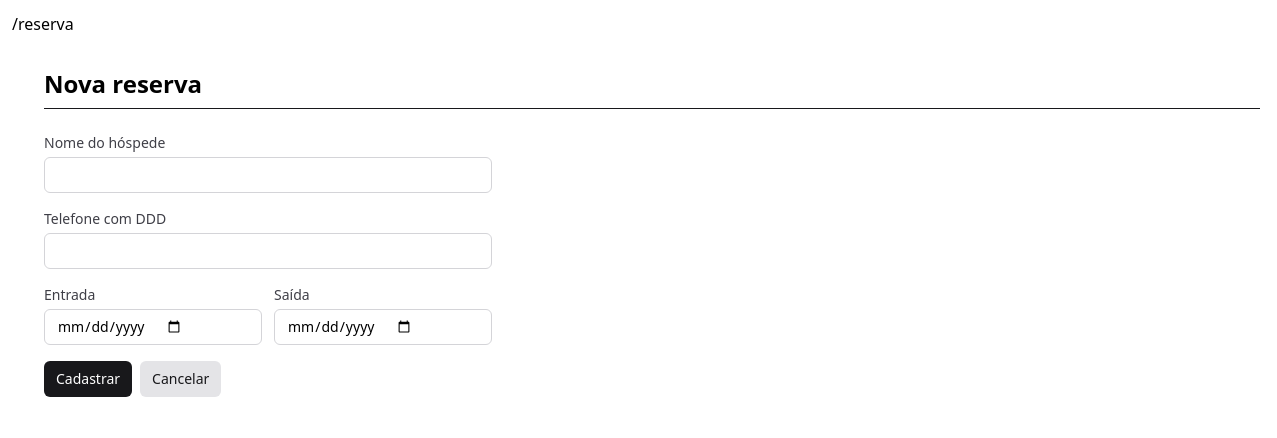
Test case: TelaNovaReserva › cadastro futuro avisa que entra no dia da entrada
The image size is (1277, 438).
Type "Marina Duarte" into the field labelled "Nome do hóspede" at (268, 175), box 44,157 -> 492,193
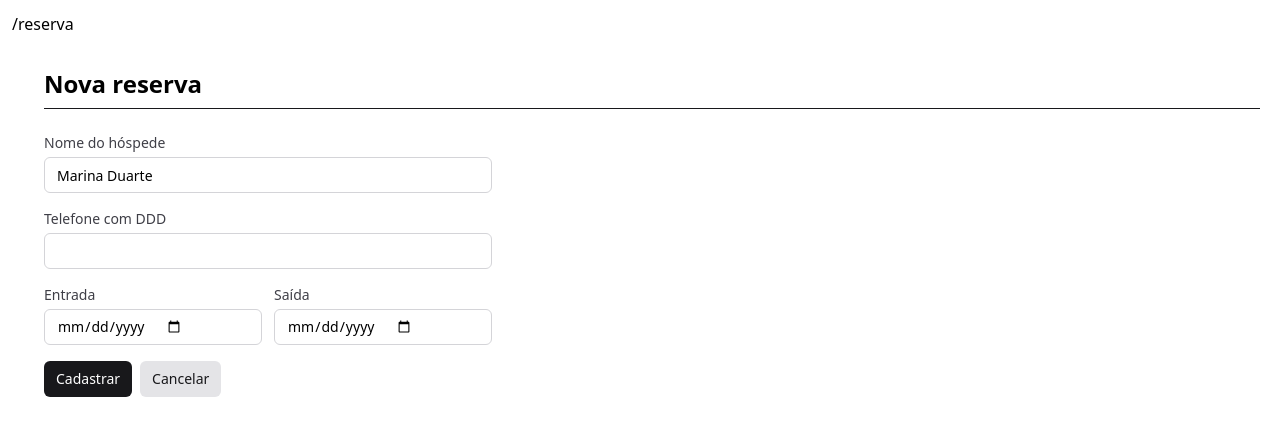
Type "(11) 98765-4321" into the field labelled "Telefone com DDD" at (268, 251), box 44,233 -> 492,269
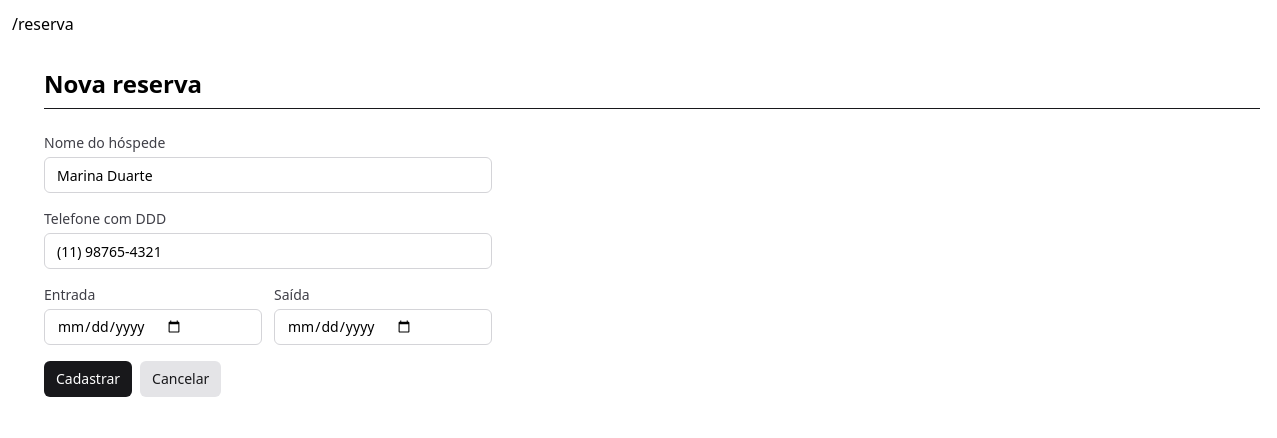
Type "2026-12-01" into the date field labelled "Entrada" at (153, 327), box 44,309 -> 262,345
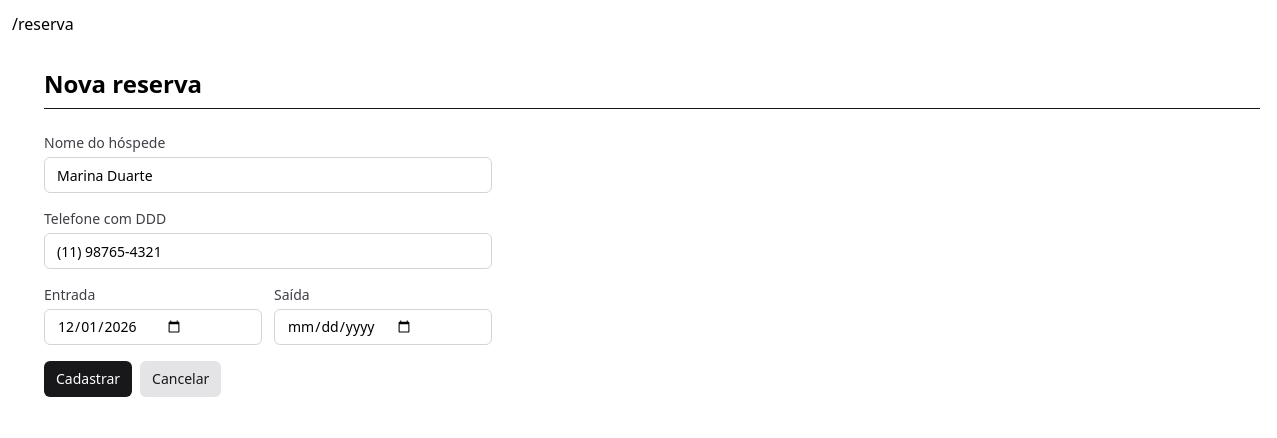
Type "2026-12-05" into the date field labelled "Saída" at (383, 327), box 274,309 -> 492,345
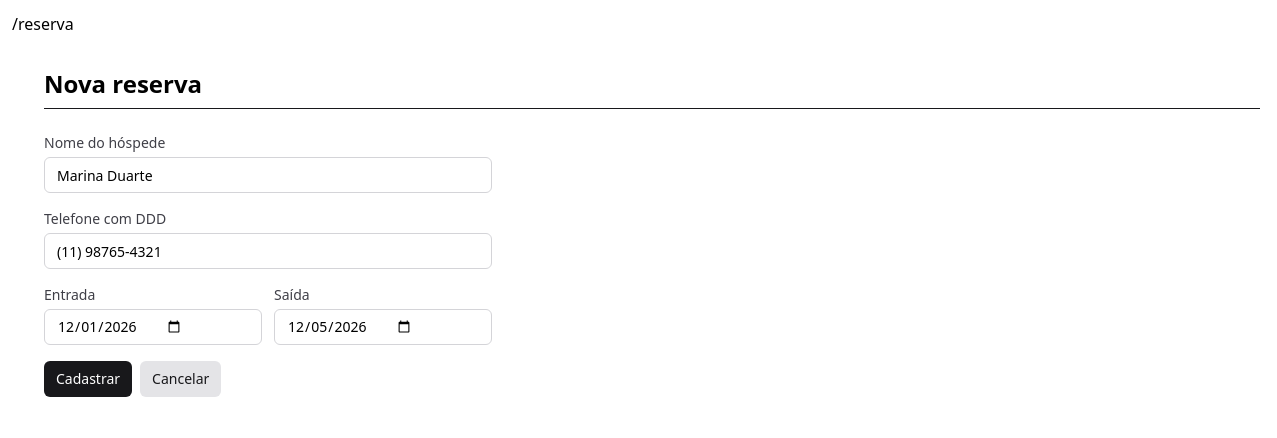
Click the button "Cadastrar" at (88, 379), box 44,361 -> 132,397
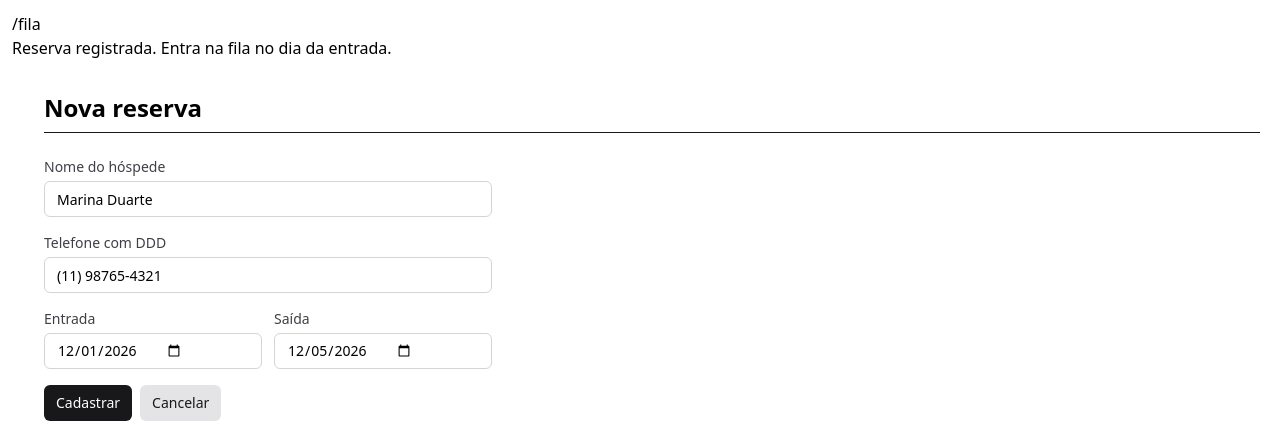
Check: the text with test id "path" reads "/fila", box 12,13 -> 41,35
Check: the text with test id "aviso" shows "Entra na fila no dia da entrada", box 12,37 -> 392,59
